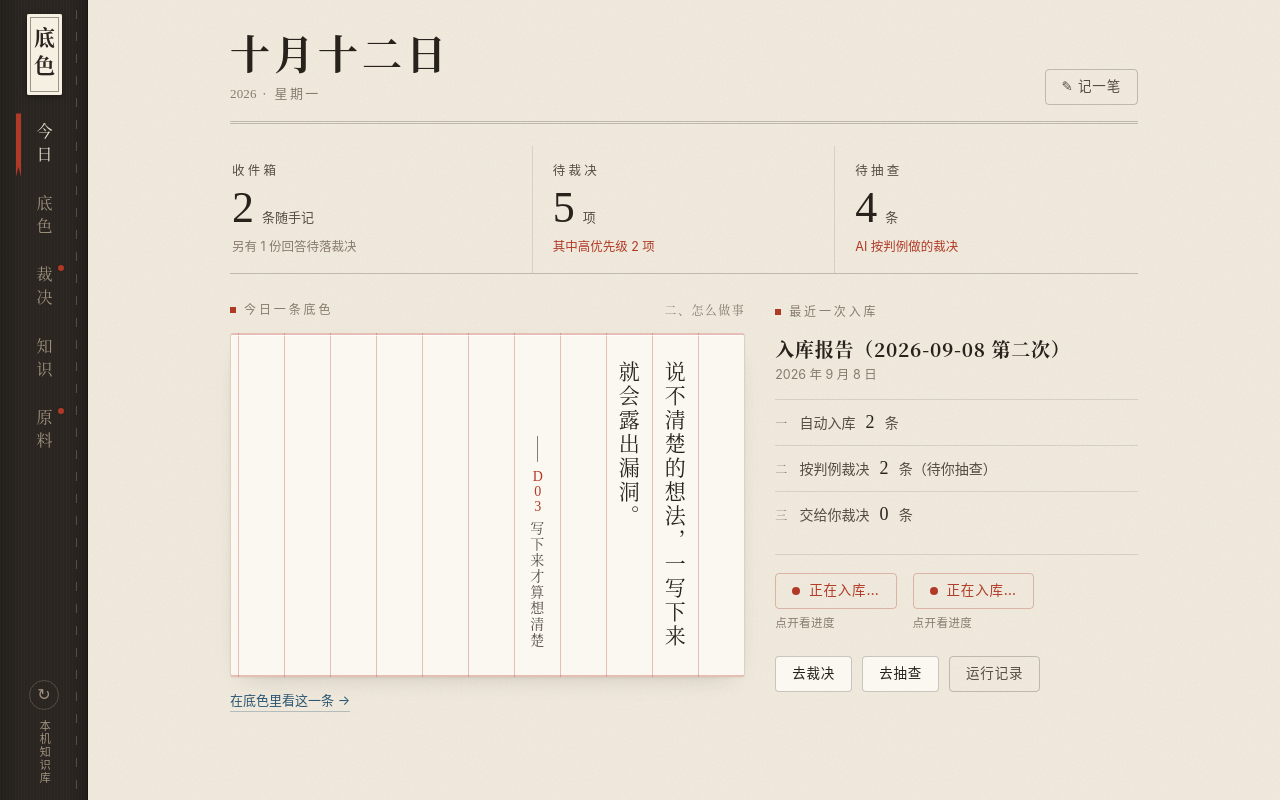
while a run holds the knowledge base › 今日 offers the run instead of a new start, and the panel closes without stopping it
Step 1. Click the 1st button "正在入库…" → (836, 591), box x1=775 y1=573 x2=896 y2=609
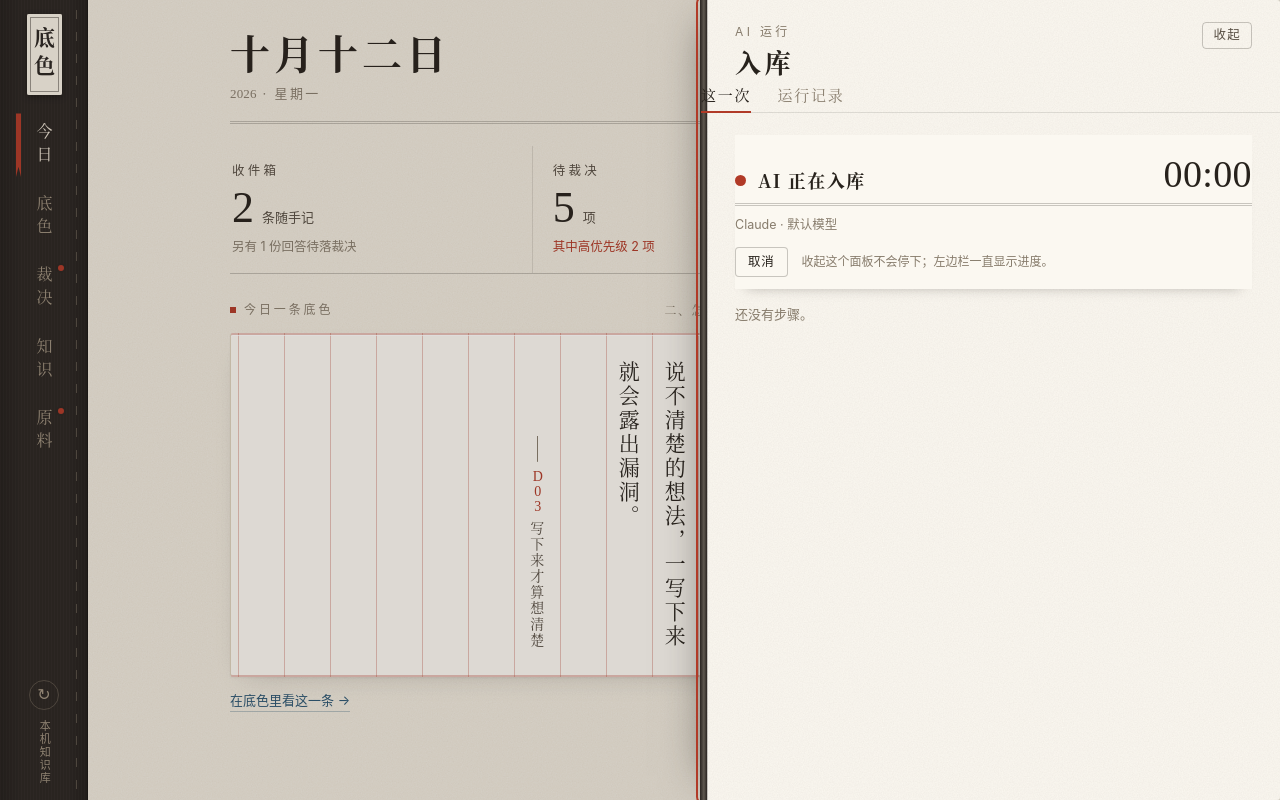
Step 2. Click the button "收起" → (1227, 35), box x1=1202 y1=22 x2=1252 y2=48
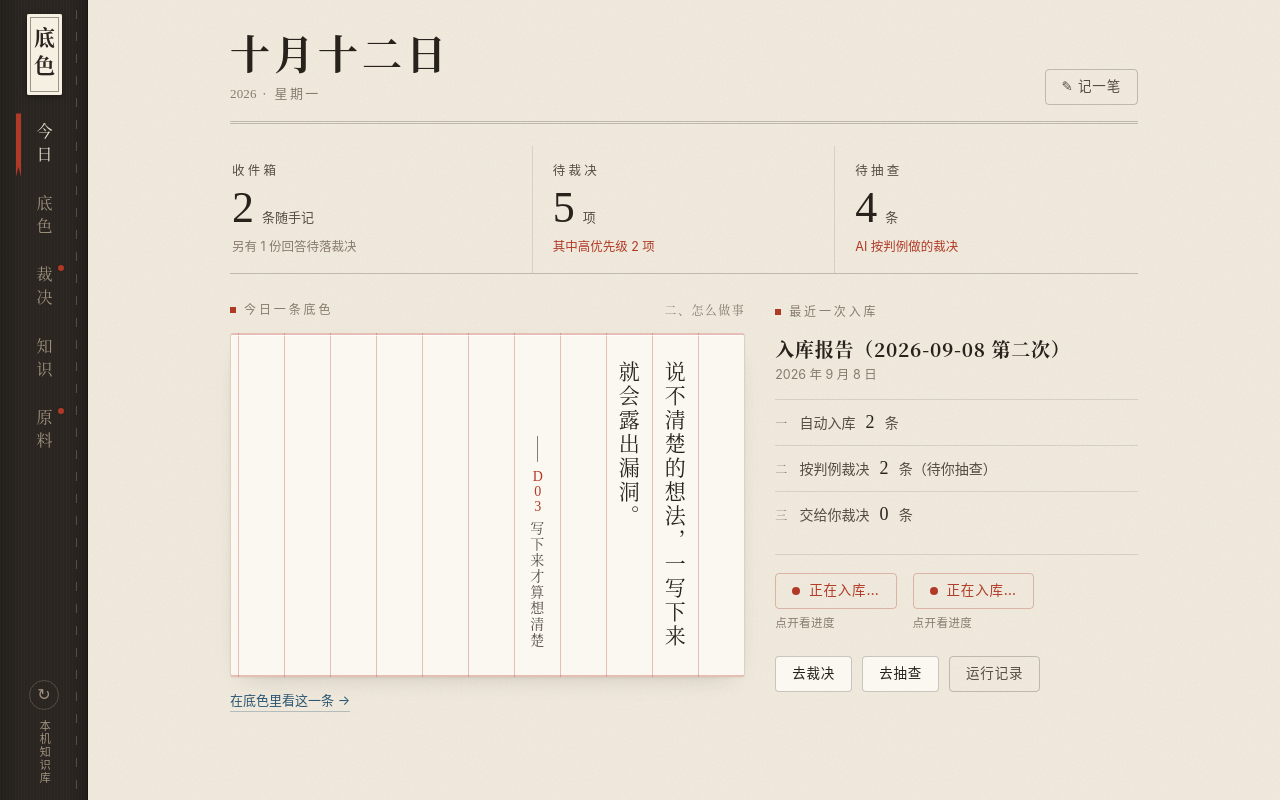
Now the dialog with class "run-panel" is gone
